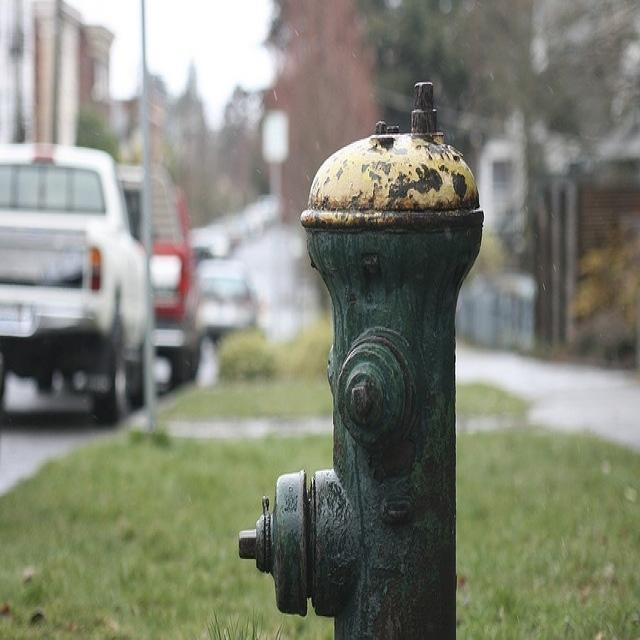fire_hydrant: (197, 60, 557, 640)
